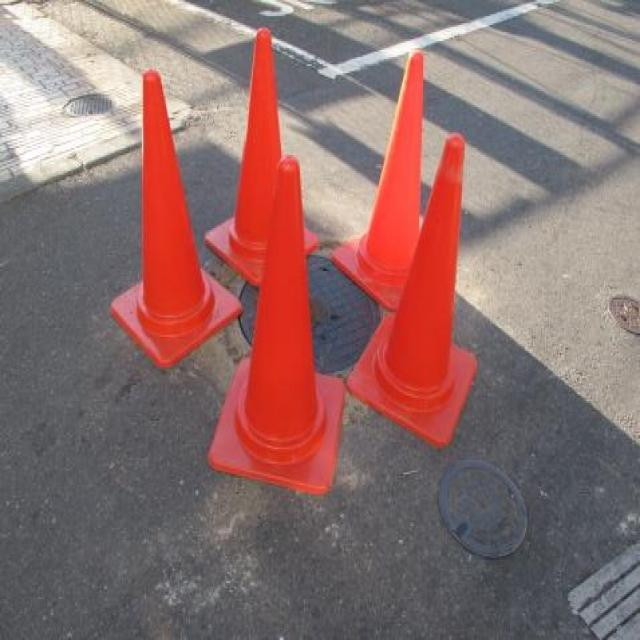Cone: (204, 153, 346, 501), (346, 130, 481, 451), (107, 68, 244, 371), (202, 27, 331, 285), (333, 52, 432, 310)
